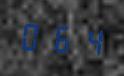four: (75, 20, 102, 58)
six: (47, 18, 74, 56)
zero: (18, 17, 45, 54)
